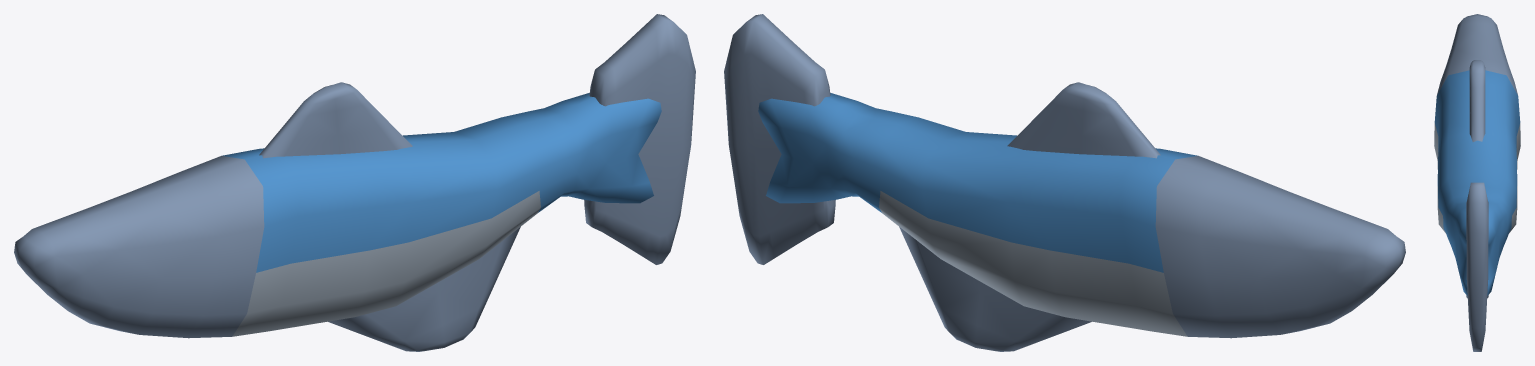
The model's file is Prop_Fish_Mackerel.gltf.
The picture shows the model from 3 angles, left to right: view 1: azimuth 30°, elevation 25°; view 2: azimuth 150°, elevation 25°; view 3: azimuth 270°, elevation 25°; orthographic projection. The views are drawn at different scales.
Parts seen in each view (by area): view 1: Prop_Fish_Mackerel; view 2: Prop_Fish_Mackerel; view 3: Prop_Fish_Mackerel.
Boxes of the visible parts, x1,y1,x2,y2 form: Prop_Fish_Mackerel: (14,14,695,351); Prop_Fish_Mackerel: (724,14,1405,351); Prop_Fish_Mackerel: (1434,14,1520,351).
Bounding box in the file's own units: 1.56 × 0.6294 × 0.2494.
Materials: 1 (1 with a texture image).
